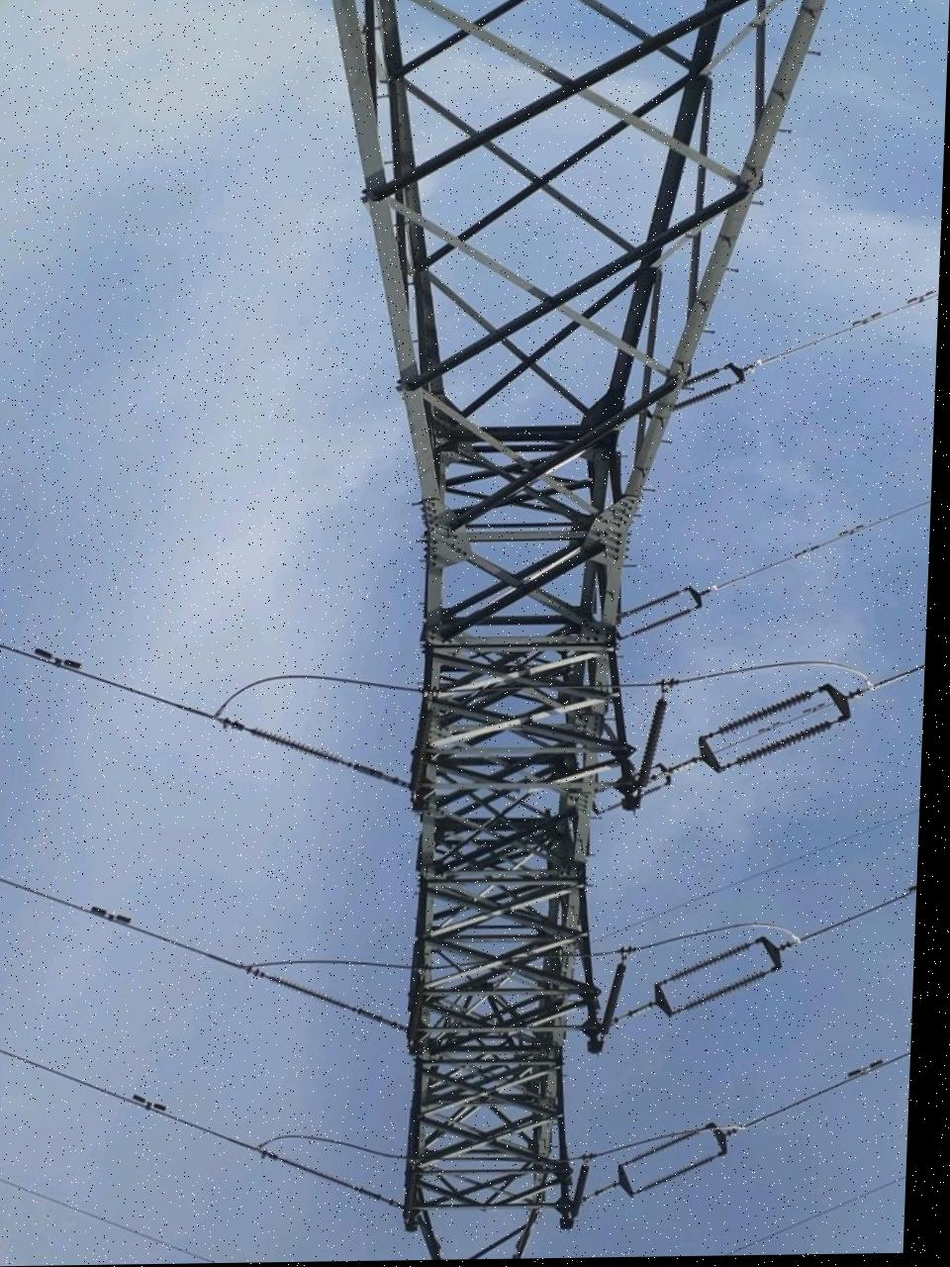tower: (273, 0, 844, 1257)
